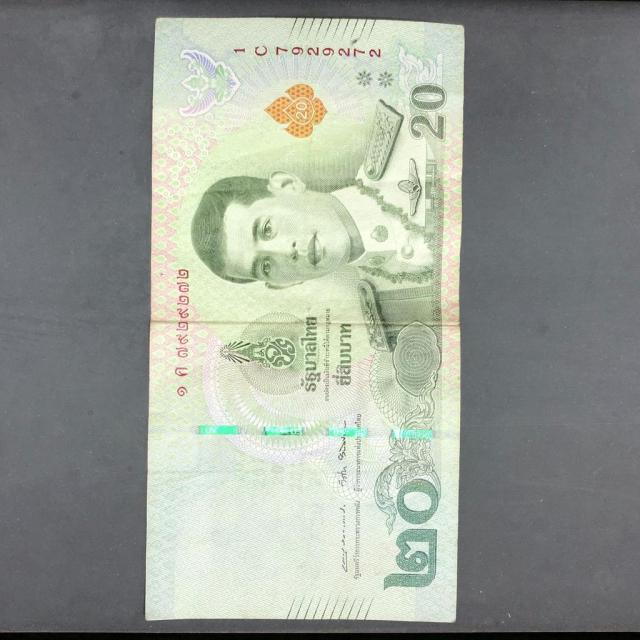THAI20: (146, 18, 463, 621)
